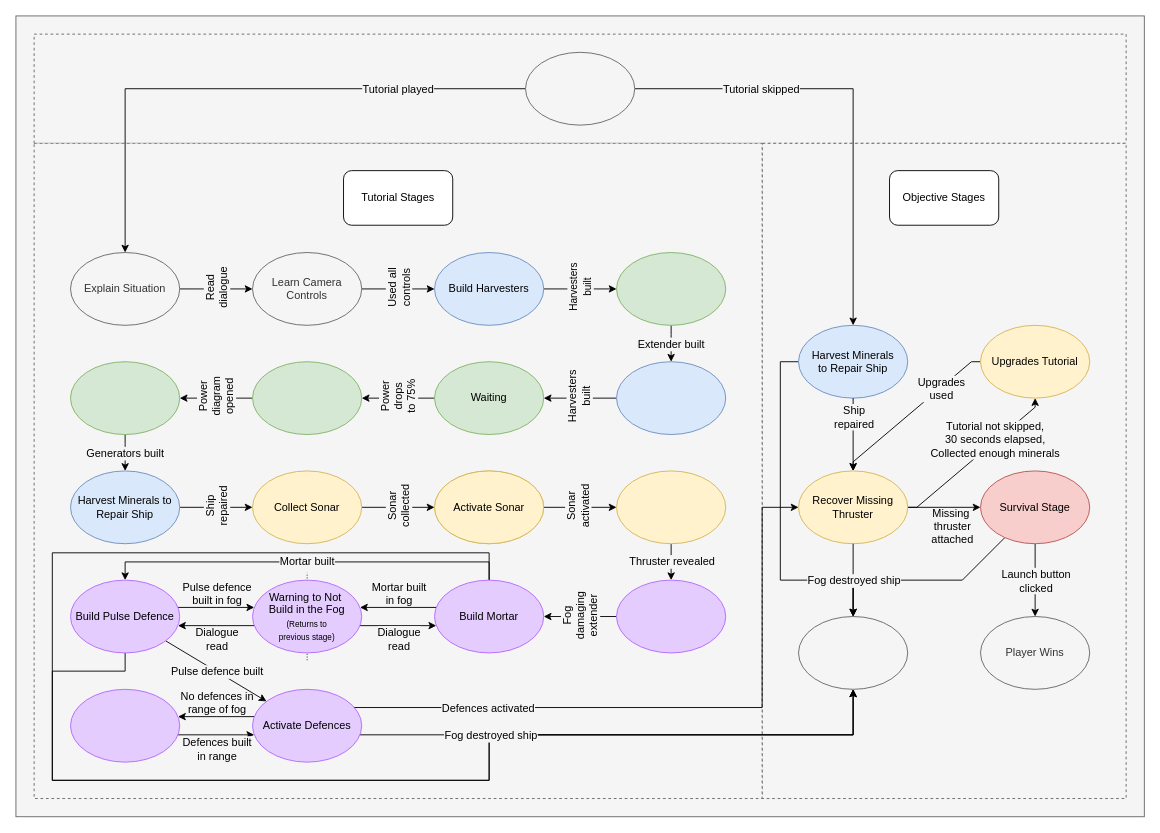
This 1160x833 diagram has some shape labels left out. The shapes that lost their labels are listed below. From the top down, each one's centre as x and y in pixels, then its label:
At (580,88): "Main Menu".
At (671,288): "Build an Extender".
At (125,398): "Build Power Suppliers".
At (307,398): "Learn Power System".
At (671,398): "Build More Harvesters".
At (671,507): "Reveal Missing Thruster".
At (671,616): "Build Extender in Fog".
At (853,652): "Player Loses".
At (125,725): "Warning to Build Defences in Range of the Fog".
